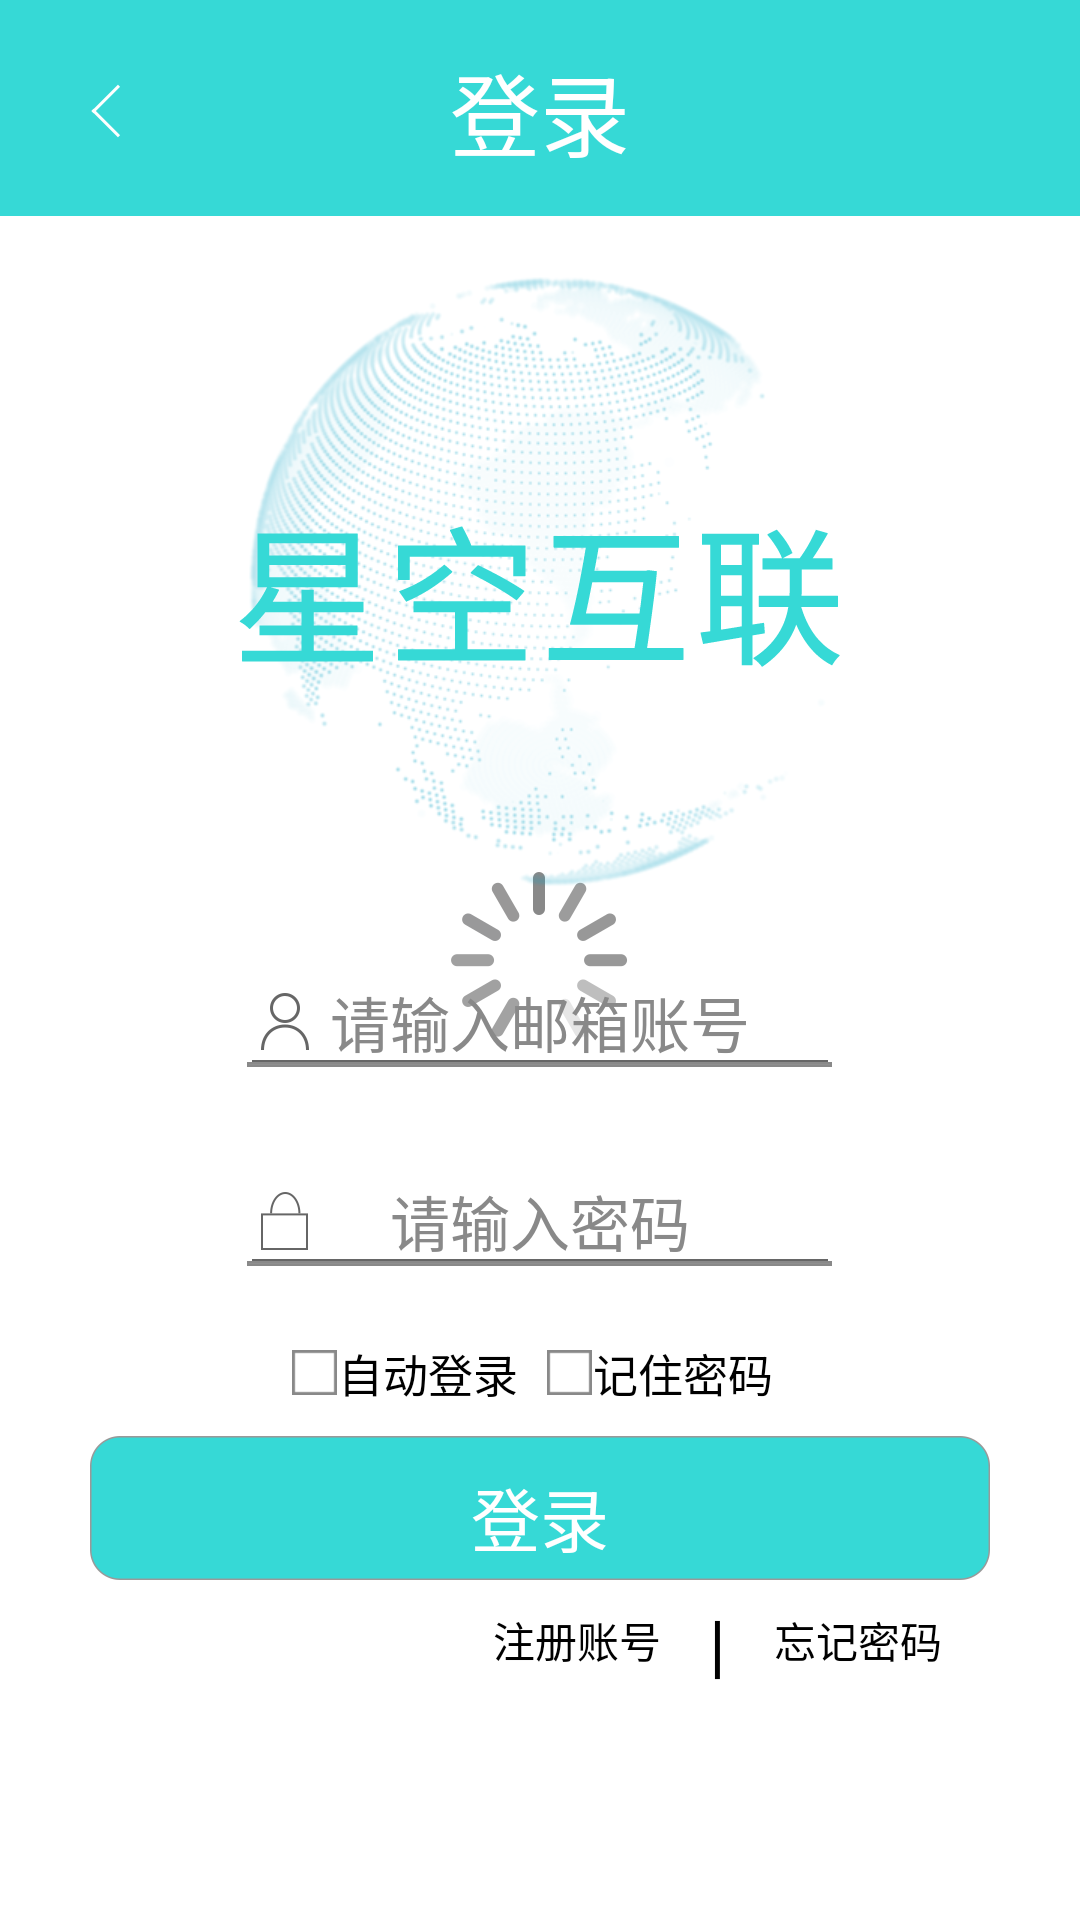

Icon bounding boxes for this 1080px x 1920px phone screenshot, format (x1, y1, x2, y2):
anim loading progress: (451, 883, 627, 1048)
lock: (261, 1192, 308, 1250)
return: (91, 85, 120, 137)
user: (261, 993, 309, 1050)
